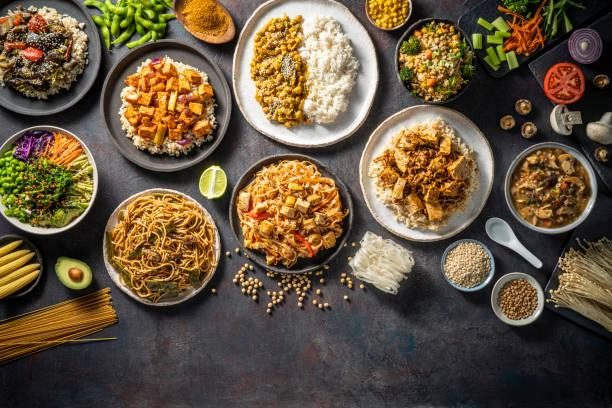Braised Crucian Carp: (230, 0, 377, 150), (359, 104, 491, 241), (101, 38, 230, 171), (228, 153, 352, 273), (102, 189, 218, 305), (1, 0, 101, 116), (0, 125, 98, 234), (503, 142, 595, 235), (395, 18, 475, 105)
